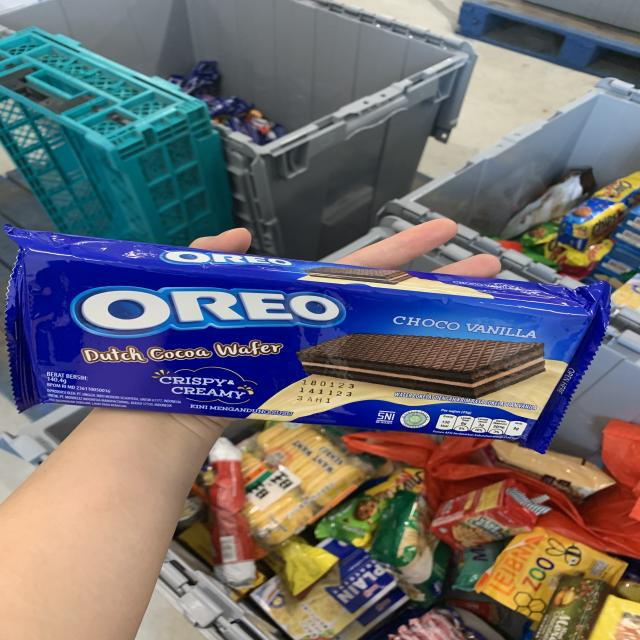object_name: (23, 294, 578, 432)
